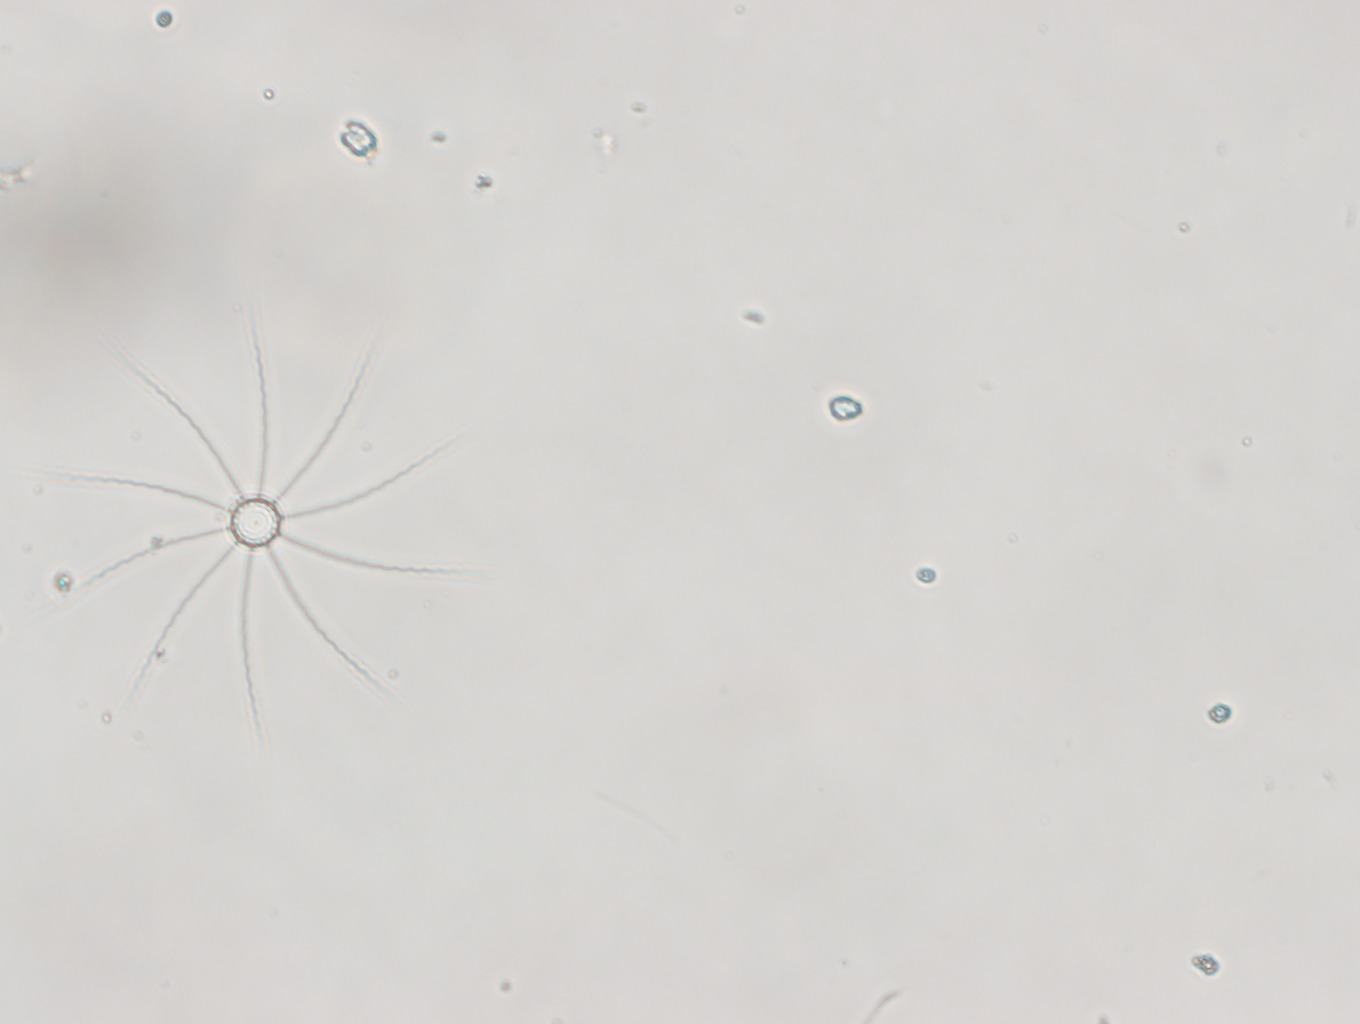bacteriastrum: (33, 304, 483, 736)
